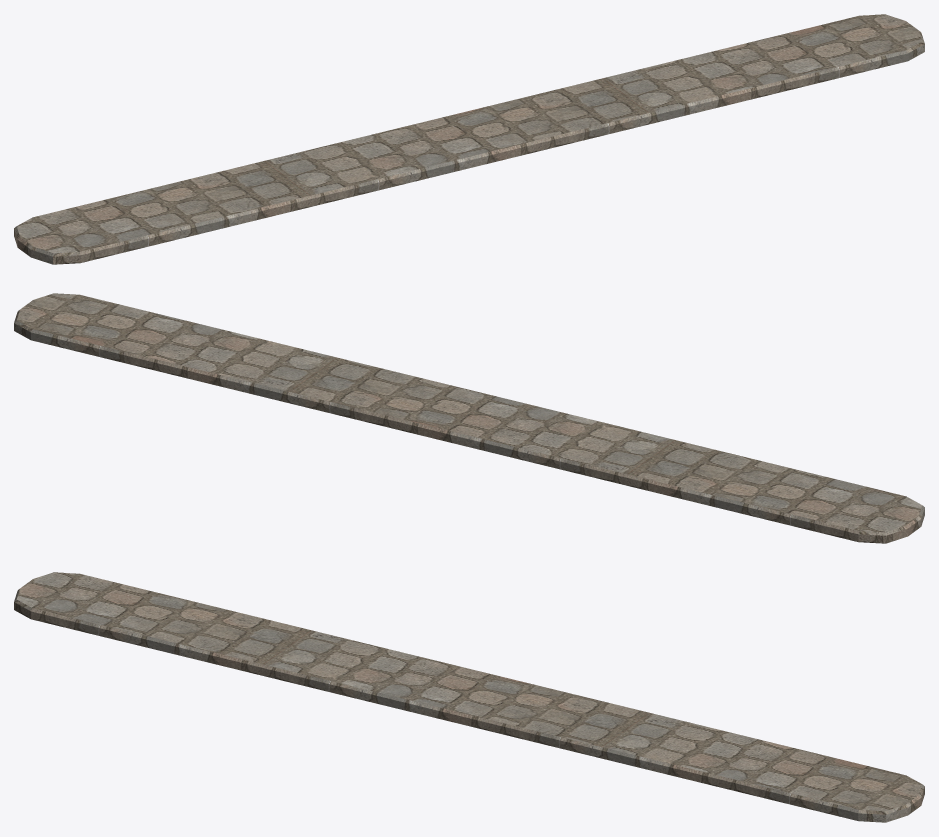
Rendered from modular-city-road-pack-game-ready-plane-001-12.glb.
3 renders of one model, top to bottom at view 1: azimuth 30°, elevation 25°; view 2: azimuth 150°, elevation 25°; view 3: azimuth 330°, elevation 25°, orthographic.
Parts seen in each view (by area): view 1: Plane.001_12; view 2: Plane.001_12; view 3: Plane.001_12.
Part boxes in pixels (<box>): Plane.001_12: <box>14,14,924,264</box>; Plane.001_12: <box>14,293,924,543</box>; Plane.001_12: <box>14,572,924,822</box>.
Bounding box in the file's own units: 4.19 × 0.0461 × 0.4053.
1 material, 1 textured.
